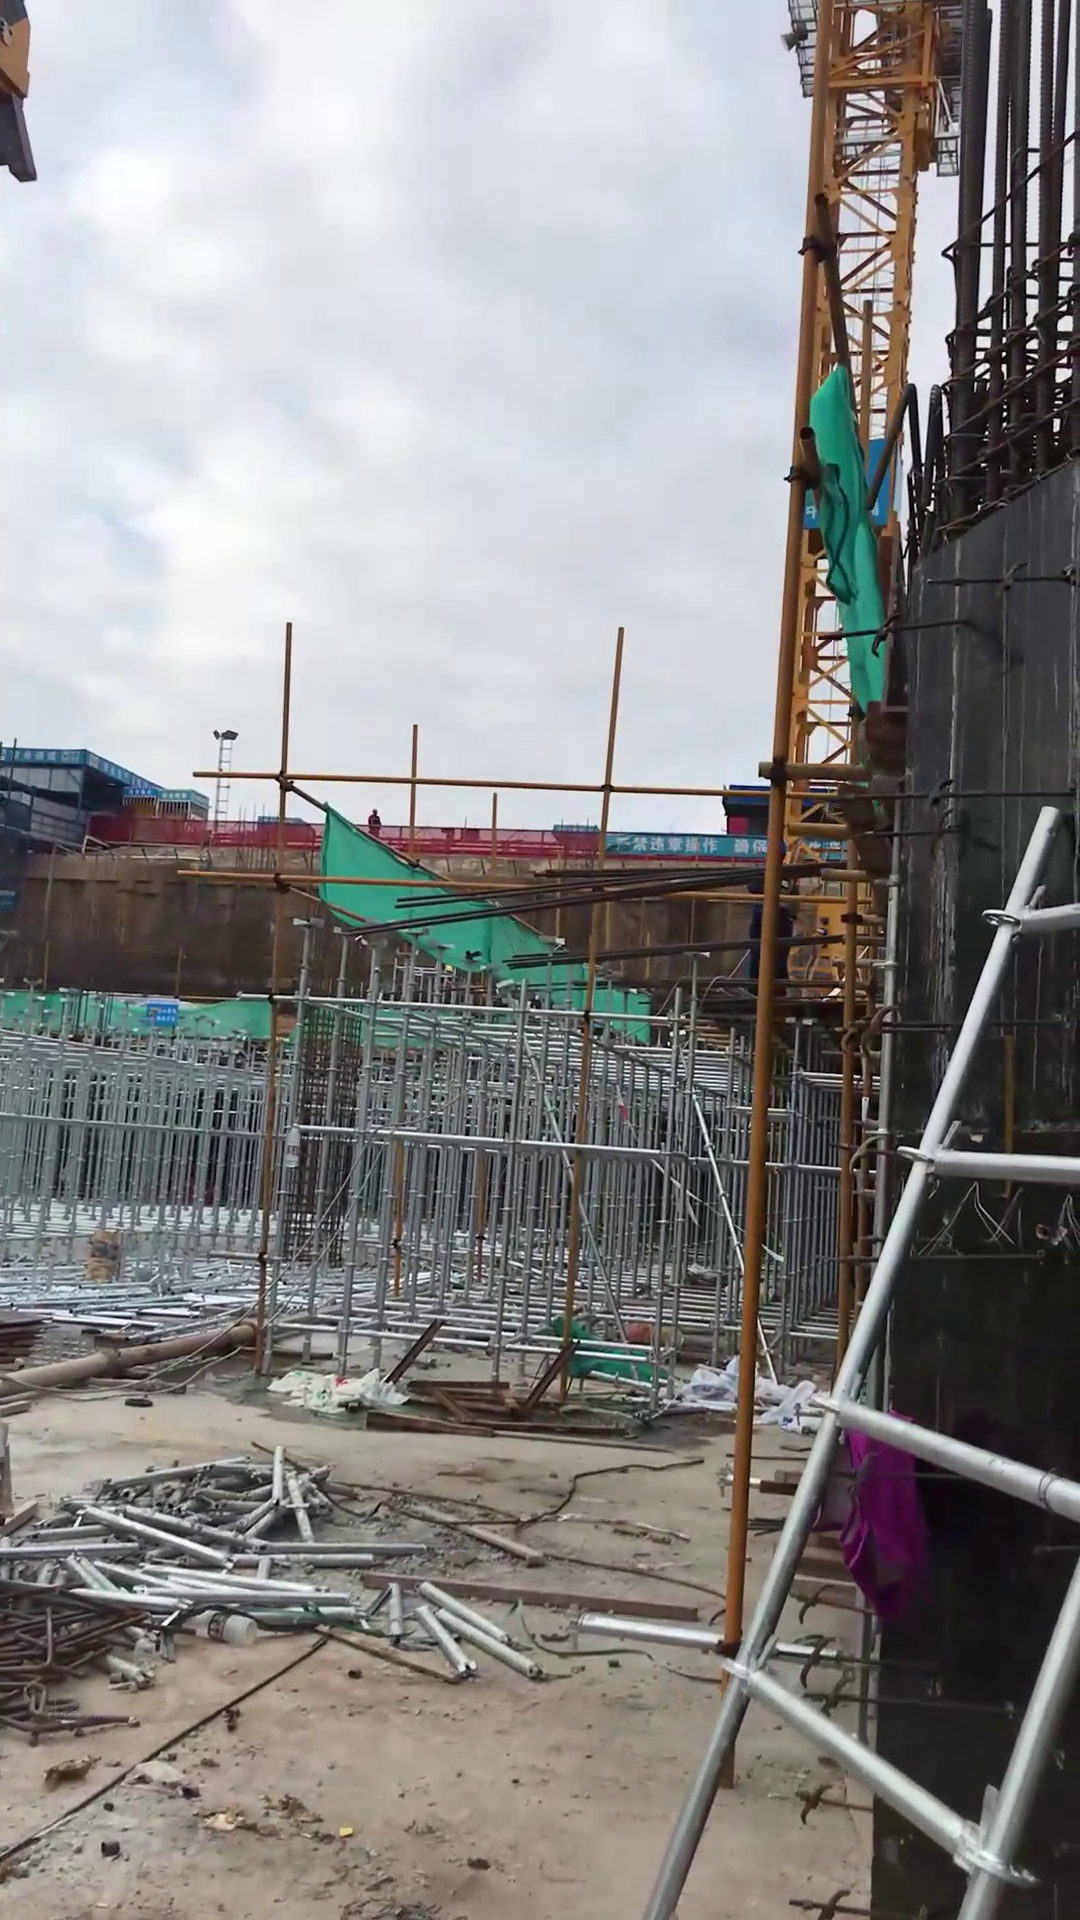fence: (102, 806, 580, 866)
slogan: (603, 829, 775, 865)
